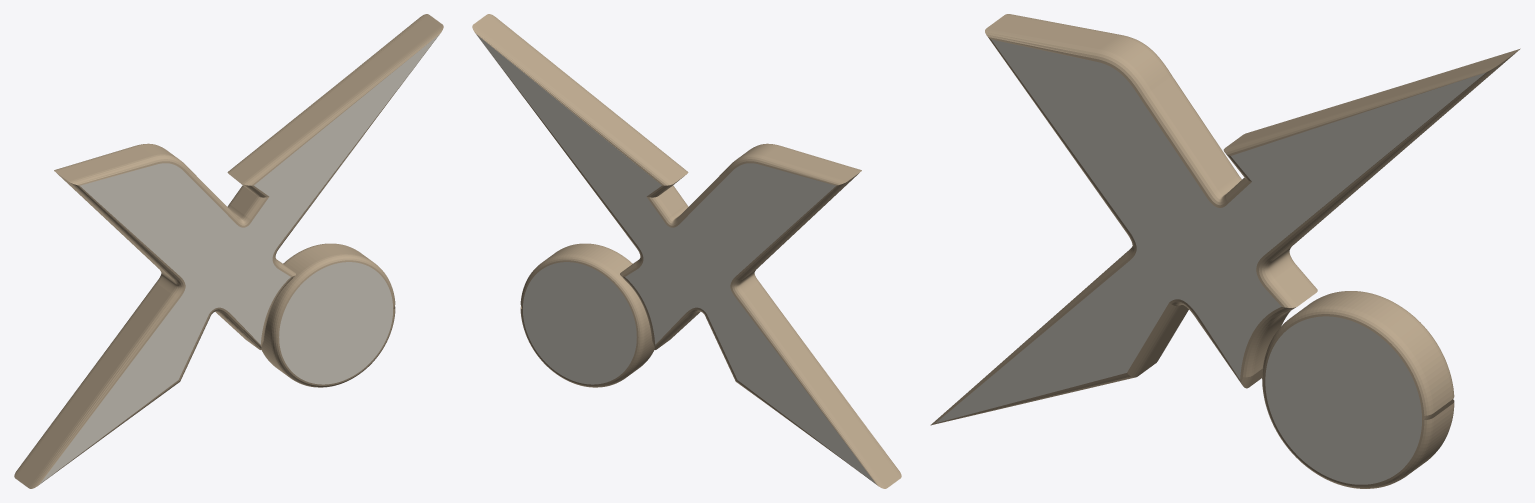
The model's file is xiteai-metallic-emblem.glb.
3 views of the same model, side by side, from view 1: azimuth 30°, elevation 25°; view 2: azimuth 150°, elevation 25°; view 3: azimuth 330°, elevation 25° (orthographic). The views are drawn at different scales.
Parts seen in each view (by area): view 1: XiteAI asymmetric X, XiteAI separate circular mark; view 2: XiteAI asymmetric X, XiteAI separate circular mark; view 3: XiteAI asymmetric X, XiteAI separate circular mark.
Boxes of the visible parts, x1,y1,x2,y2 form: XiteAI asymmetric X: (14,14,443,488); XiteAI separate circular mark: (261,243,395,387); XiteAI asymmetric X: (472,14,901,488); XiteAI separate circular mark: (520,243,654,387); XiteAI asymmetric X: (930,14,1520,425); XiteAI separate circular mark: (1262,291,1454,488).
Size of the model in its own units: 4.74 by 3.97 by 0.42.
